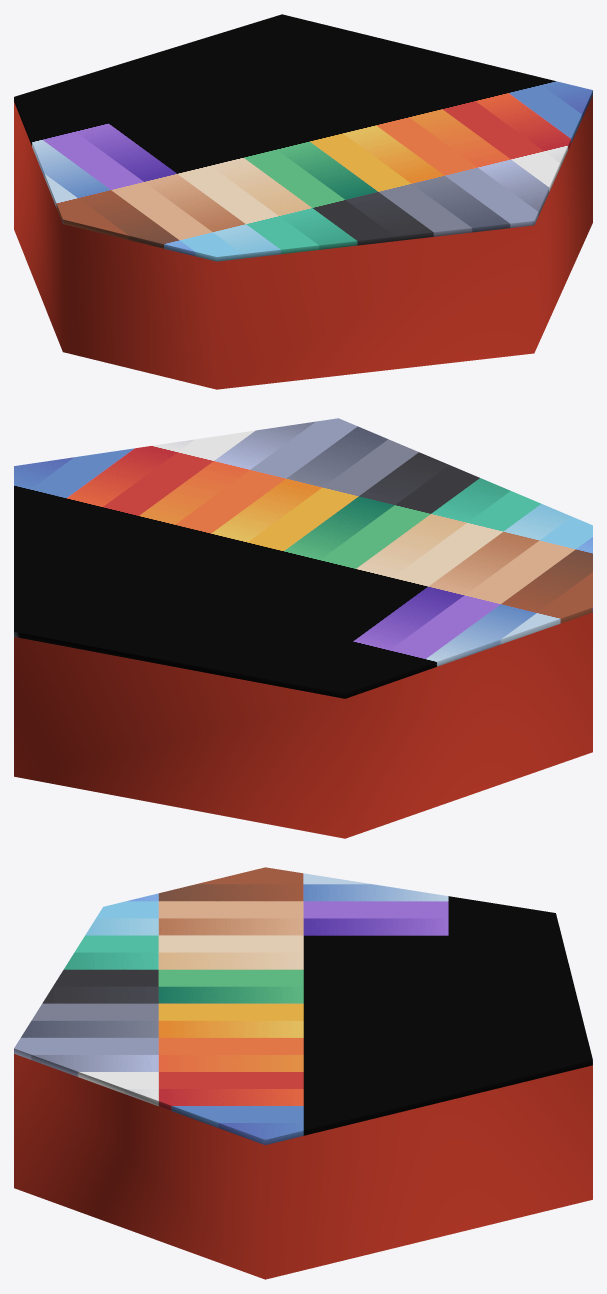
The model's file is grass.001.fbx.
3 views of the same model, one above another, from view 1: azimuth 30°, elevation 25°; view 2: azimuth 150°, elevation 25°; view 3: azimuth 270°, elevation 25° (orthographic). The views are drawn at different scales.
Visible parts, largest first — view 1: grass_001, grass_001.001; view 2: grass_001, grass_001.001; view 3: grass_001, grass_001.001.
Part boxes in pixels (x1,y1,x2,y2): grass_001: [14, 14, 592, 261]; grass_001.001: [14, 96, 592, 389]; grass_001: [14, 418, 592, 698]; grass_001.001: [14, 612, 592, 838]; grass_001: [14, 867, 592, 1144]; grass_001.001: [14, 1054, 592, 1279].
Size of the model in its own units: 19688 by 4706 by 17672.
